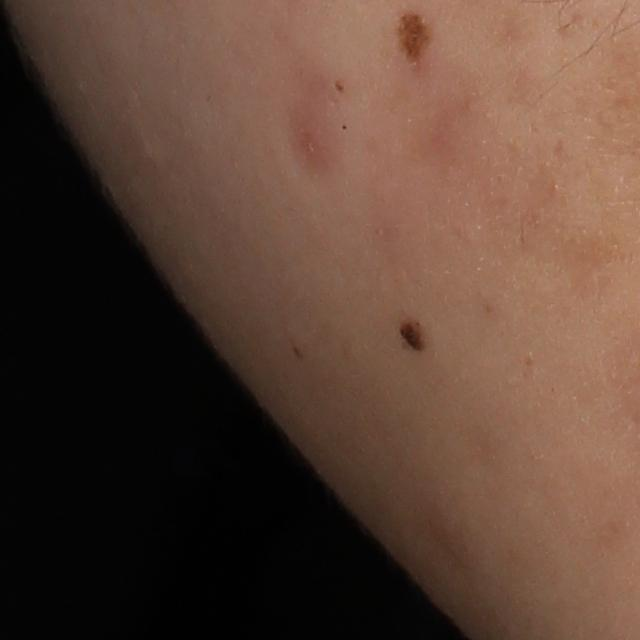comedo: (331, 78, 349, 95), (338, 121, 351, 133)
nevus: (393, 9, 435, 71), (396, 318, 435, 357)
